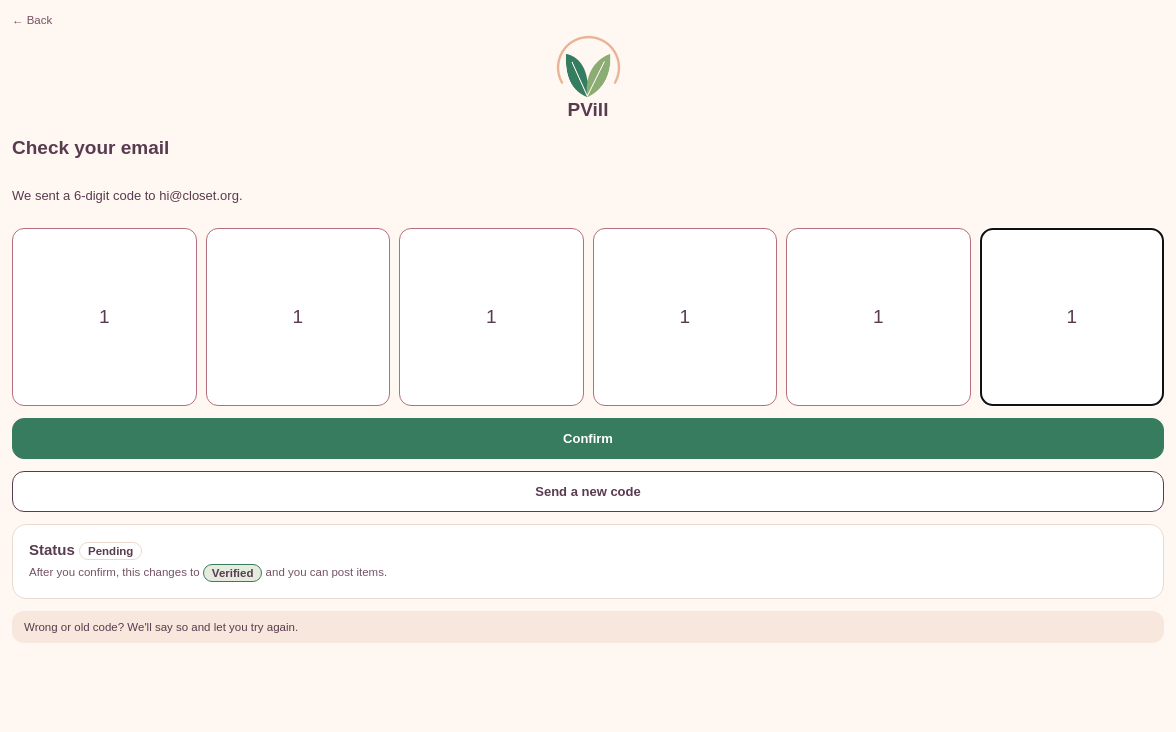
Test: OrgVerifyPage › sends a new code and clears the boxes
This screenshot has width=1176, height=732.
Click the button "Send a new code" at (588, 491), box [12,471,1164,512]
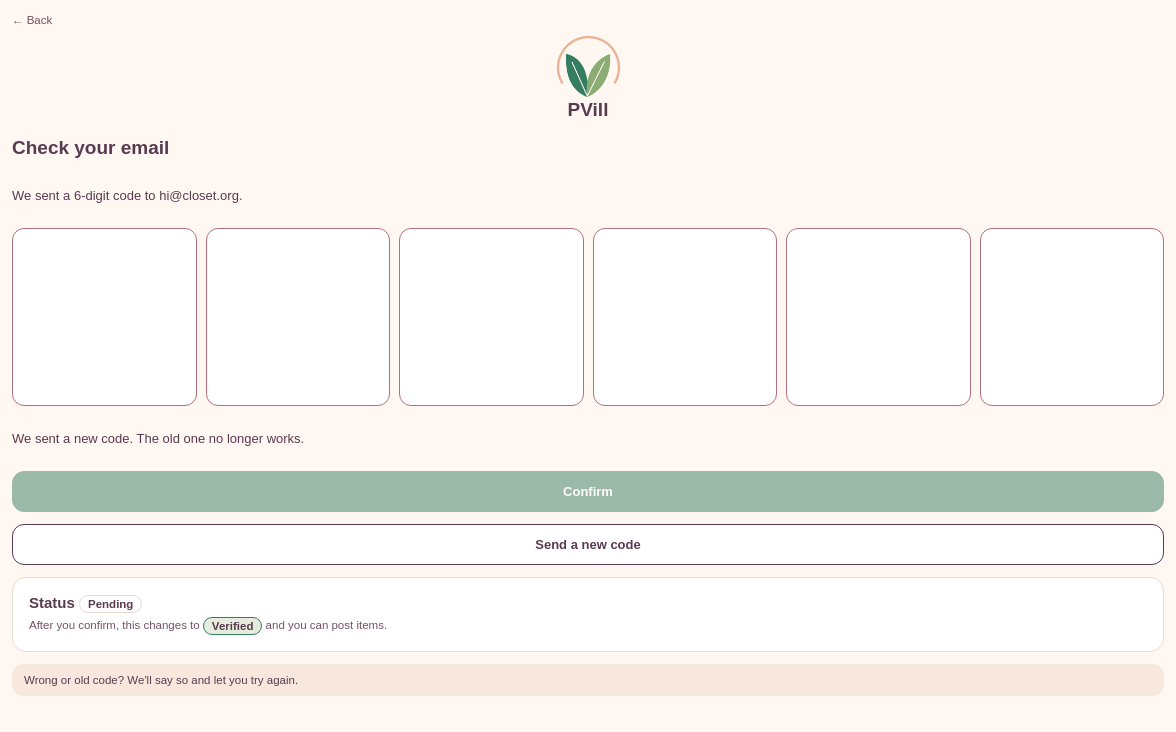
Check: the text "We sent a new code. The old one no longer works." is shown, box [12,431,304,446]
Check: the field named "Digit 1" is empty, box [12,228,196,406]
